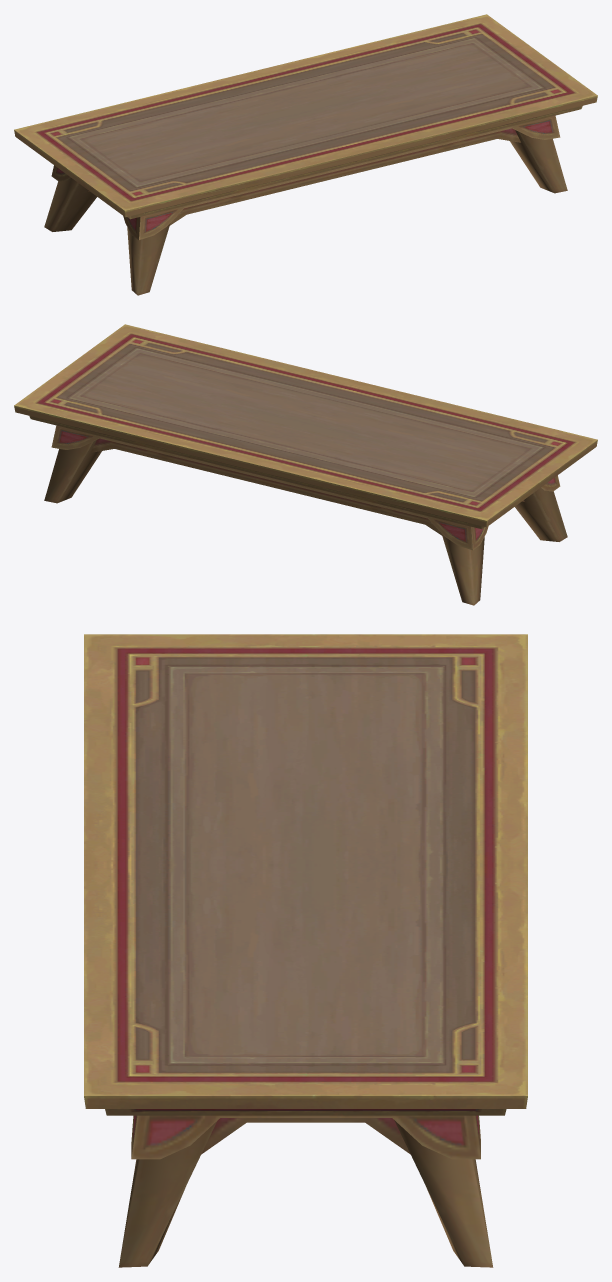
The model's file is Homeworld_Interior_Fd_Table_Prop_DyzFangzhuo_01_Vo.fbx.
3 views of the same model, one above another, from view 1: azimuth 30°, elevation 25°; view 2: azimuth 150°, elevation 25°; view 3: azimuth 270°, elevation 25° (orthographic). The views are drawn at different scales.
Visible parts, largest first — view 1: Indoor_Fd_Prop_Dyz_Table_02_Vo; view 2: Indoor_Fd_Prop_Dyz_Table_02_Vo; view 3: Indoor_Fd_Prop_Dyz_Table_02_Vo.
Boxes of the visible parts, x1,y1,x2,y2 form: Indoor_Fd_Prop_Dyz_Table_02_Vo: [14, 14, 597, 295]; Indoor_Fd_Prop_Dyz_Table_02_Vo: [14, 324, 597, 605]; Indoor_Fd_Prop_Dyz_Table_02_Vo: [84, 634, 527, 1267].
Size of the model in its own units: 3.98 by 0.7737 by 1.62.
Materials: 1 (1 with a texture image).
